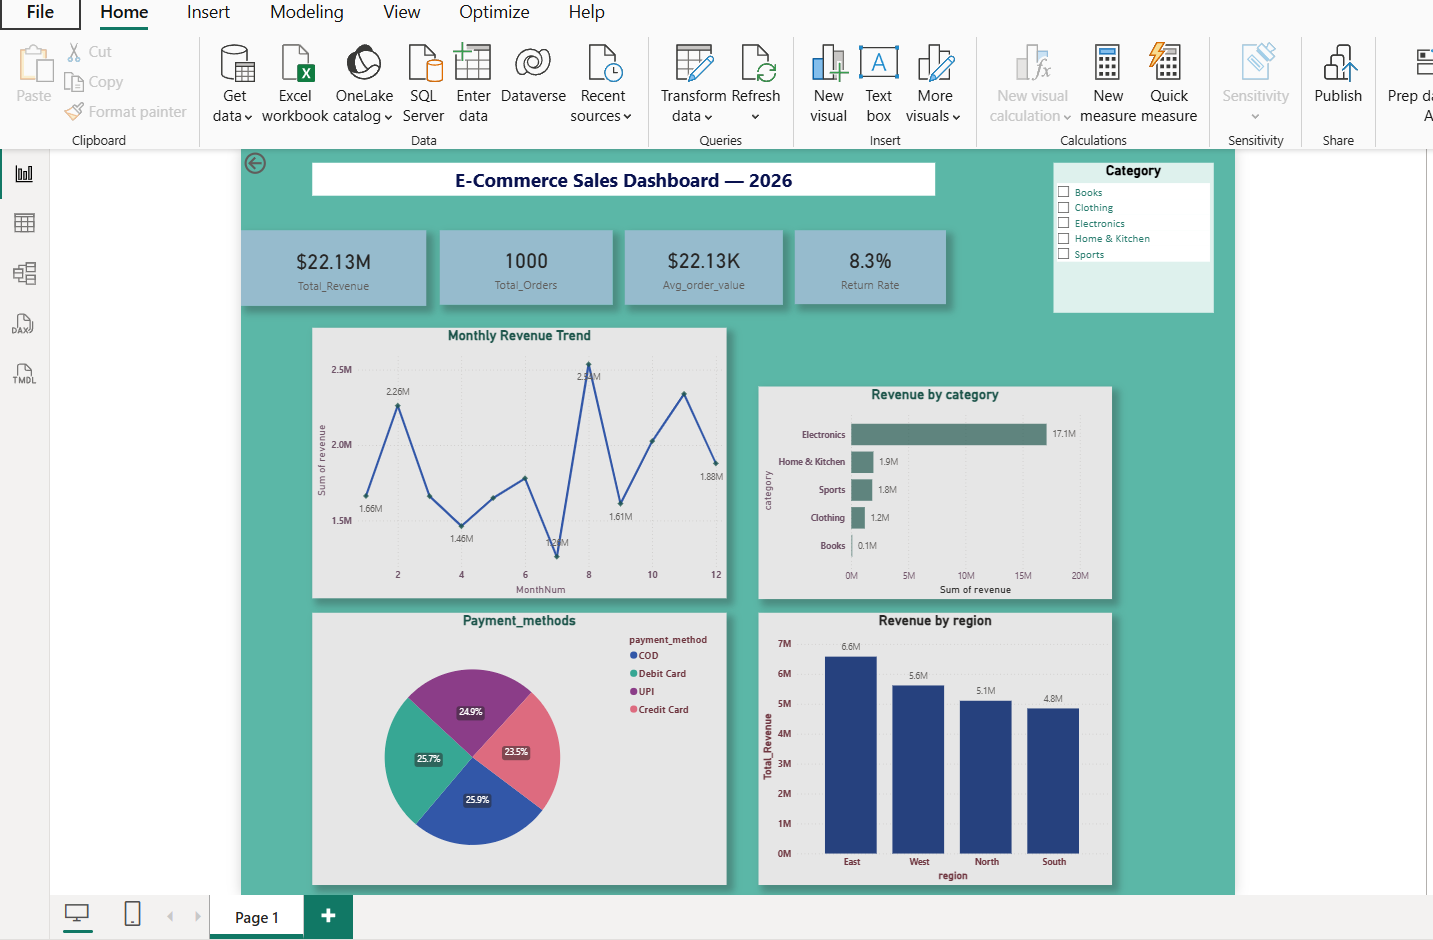

The page's visual inventory and layout, read from the dashboard file:
{"tool":"powerbi","page":{"name":"Page 1","canvas":[1400,1050],"ordinal":0},"visuals":[{"type":"card","fields":{"Values":["ecommerce_data.Total_Revenue"]},"box":[0,113.9,260.8,106.3],"z":0},{"type":"card","fields":{"Values":["ecommerce_data.Total_Orders"]},"box":[279.7,113.9,243,105.1],"z":1},{"type":"card","fields":{"Values":["ecommerce_data.Avg_order_value"]},"box":[540.5,113.9,222.8,105.1],"z":2},{"type":"card","fields":{"Values":["ecommerce_data.Return Rate"]},"box":[780.2,114.5,212.9,103.8],"z":3},{"type":"actionButton","box":[0,0,100,40],"z":4},{"type":"lineChart","title":"Monthly Revenue Trend","fields":{"Category":["DateTable.MonthNum"],"Y":["Sum(ecommerce_data.revenue)"]},"box":[100.2,252.3,583.3,381.1],"z":5},{"type":"clusteredBarChart","title":"Revenue by category","fields":{"Y":["Sum(ecommerce_data.revenue)"],"Category":["ecommerce_data.category"]},"box":[728.3,334.6,497.4,298.8],"z":6},{"type":"listSlicer","title":"Category","fields":{"Values":["ecommerce_data.category"]},"box":[1143.4,19.7,225.5,211.1],"z":7},{"type":"textbox","box":[100.2,19.7,876.8,46.5],"z":8},{"type":"pieChart","title":"Payment_methods","fields":{"Category":["ecommerce_data.payment_method"],"Y":["ecommerce_data.Total_Orders"]},"box":[100.2,653.1,583.3,382.9],"z":9},{"type":"clusteredColumnChart","title":"Revenue by region","fields":{"Category":["ecommerce_data.region"],"Y":["ecommerce_data.Total_Revenue"]},"box":[728.3,653.1,497.4,382.9],"z":10}]}

Visuals, with their boxes on the page's 1400x1050 design canvas (x1, y1, x2, y2). These are canvas units, not pixel positions in the 1433x940 screenshot, which may show the page scaled, cropped or inside an application window:
card - ecommerce_data.Total_Revenue: bbox(0, 114, 261, 220)
card - ecommerce_data.Total_Orders: bbox(280, 114, 523, 219)
card - ecommerce_data.Avg_order_value: bbox(540, 114, 763, 219)
card - ecommerce_data.Return Rate: bbox(780, 114, 993, 218)
actionButton: bbox(0, 0, 100, 40)
"Monthly Revenue Trend" lineChart: bbox(100, 252, 684, 633)
"Revenue by category" clusteredBarChart: bbox(728, 335, 1226, 633)
"Category" listSlicer: bbox(1143, 20, 1369, 231)
textbox: bbox(100, 20, 977, 66)
"Payment_methods" pieChart: bbox(100, 653, 684, 1036)
"Revenue by region" clusteredColumnChart: bbox(728, 653, 1226, 1036)
